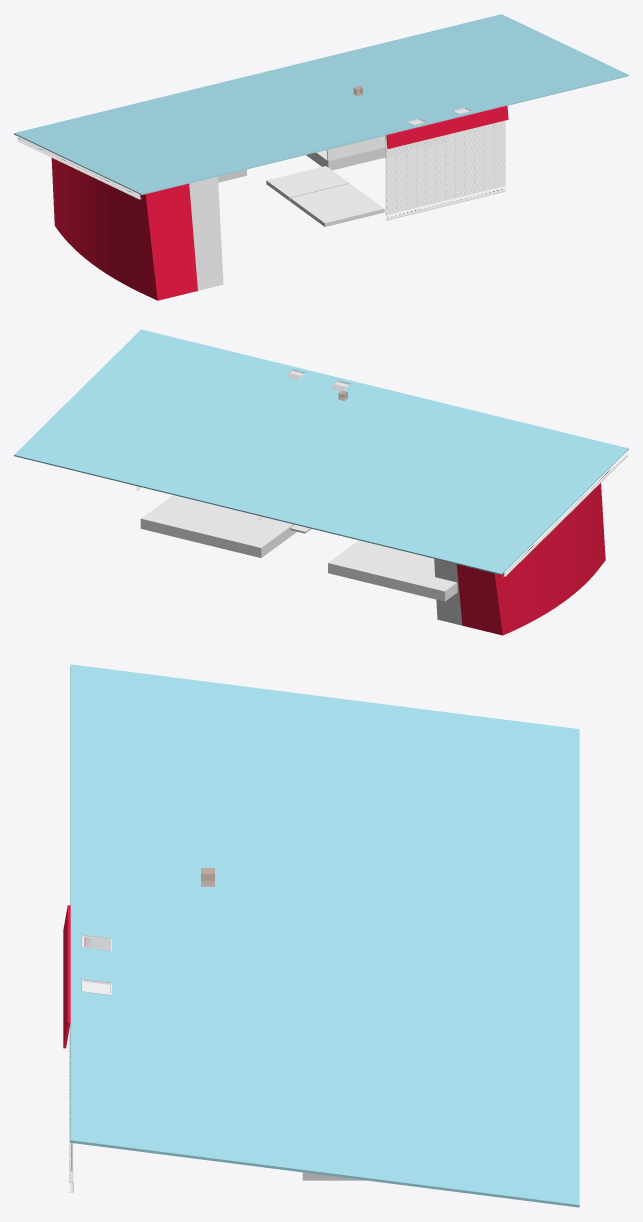
The model's file is ccg-from-floor-1.glb.
3 views of the same model, one above another, from view 1: azimuth 30°, elevation 25°; view 2: azimuth 150°, elevation 25°; view 3: azimuth 270°, elevation 25° (orthographic). The views are drawn at different scales.
Parts seen in each view (by area): view 1: IFC IfcSlab 17529, IFC IfcWall 19841, IFC IfcWall 22266, IFC IfcSlab 27966, IFC IfcWall 1263, IFC IfcSlab 27943, IFC IfcWall 18600, IFC IfcWall 6412, IFC IfcSlab 488, IFC IfcBeam 17137, IFC IfcBeam 4924, IFC IfcWall 29529 (+11 smaller); view 2: IFC IfcSlab 17529, IFC IfcSlab 488, IFC IfcSlab 24389, IFC IfcWall 19818, IFC IfcWall 22128, IFC IfcBeam 17137, IFC IfcWall 18692, IFC IfcWall 18600, IFC IfcWall 18531, IFC IfcWall 18646, IFC IfcWall 18301, IFC IfcWall 18738; view 3: IFC IfcSlab 17529, IFC IfcWall 1263.
Part boxes in pixels (<box>): IFC IfcSlab 17529: <box>14,14,628,194</box>; IFC IfcWall 19841: <box>145,183,197,300</box>; IFC IfcWall 22266: <box>189,176,223,290</box>; IFC IfcSlab 27966: <box>290,183,384,226</box>; IFC IfcWall 1263: <box>386,105,508,148</box>; IFC IfcSlab 27943: <box>266,166,349,201</box>; IFC IfcWall 18600: <box>139,194,157,300</box>; IFC IfcWall 6412: <box>385,122,504,214</box>; IFC IfcSlab 488: <box>306,122,423,170</box>; IFC IfcBeam 17137: <box>16,135,141,199</box>; IFC IfcBeam 4924: <box>385,186,505,220</box>; IFC IfcWall 29529: <box>326,136,386,161</box>; IFC IfcSlab 17529: <box>14,329,628,574</box>; IFC IfcSlab 488: <box>140,495,296,557</box>; IFC IfcSlab 24389: <box>328,540,457,601</box>; IFC IfcWall 19818: <box>456,564,502,635</box>; IFC IfcWall 22128: <box>434,558,462,625</box>; IFC IfcBeam 17137: <box>503,451,627,576</box>; IFC IfcWall 18692: <box>494,573,507,635</box>; IFC IfcWall 18600: <box>597,483,605,570</box>; IFC IfcWall 18531: <box>541,537,546,616</box>; IFC IfcWall 18646: <box>536,542,541,619</box>; IFC IfcWall 18301: <box>513,563,519,630</box>; IFC IfcWall 18738: <box>530,547,535,621</box>; IFC IfcSlab 17529: <box>70,664,579,1207</box>; IFC IfcWall 1263: <box>63,905,70,1048</box>.
Size of the model in its own units: 40.14 by 10.5 by 18.39.
